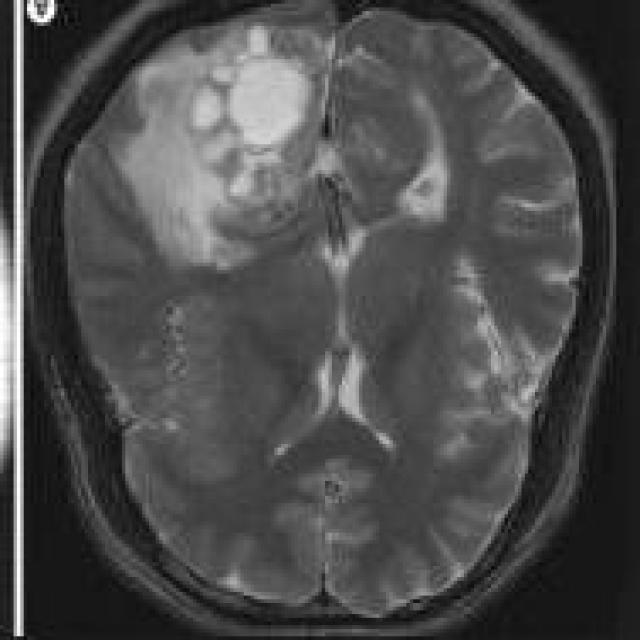Tumor-Cell: (166, 28, 466, 221)
